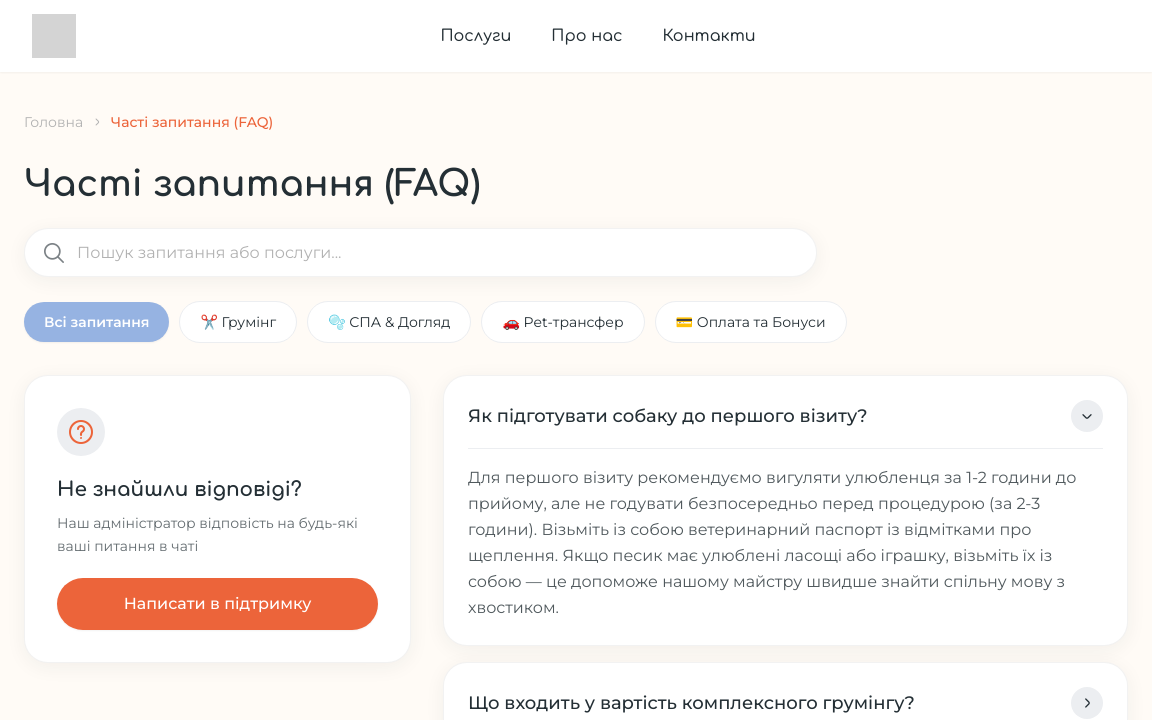
Test case: FaqPage › filters FAQ items by search input
The width and height of the screenshot is (1152, 720).
Type "озонової ванни" into the field with placeholder "Пошук запитання або послуги..." at (420, 252), box x1=24 y1=228 x2=817 y2=277
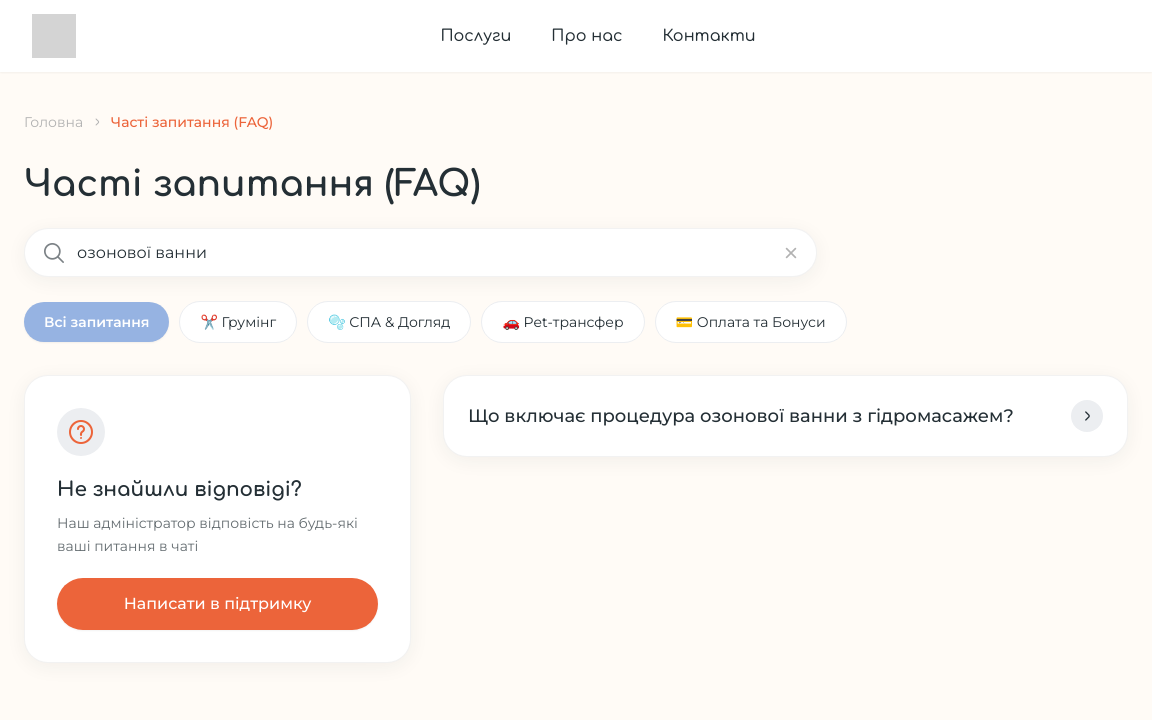
Expected: the text "Що включає процедура озонової ванни з гідромасажем?" is shown, x1=468 y1=404 x2=1014 y2=428
Expected: the button "Як підготувати собаку до першого візиту?" is gone
Click the button named "Очистити пошук" at (791, 252), box x1=781 y1=228 x2=801 y2=277
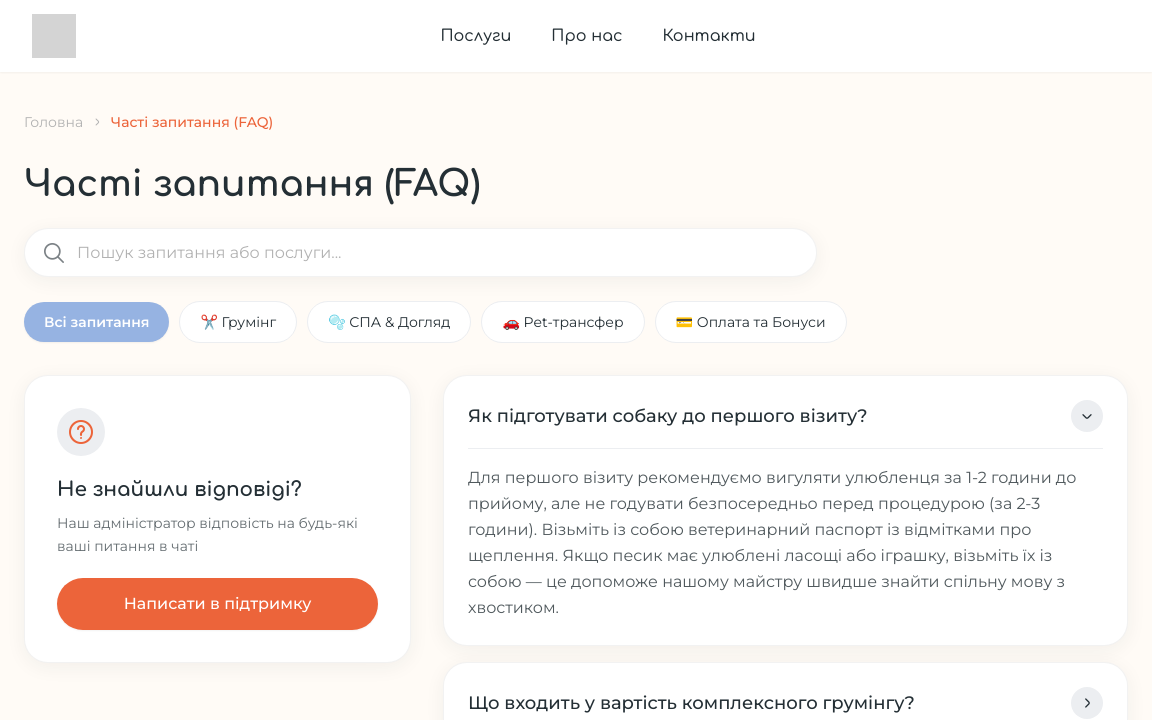
Expected: the text "Як підготувати собаку до першого візиту?" is shown, x1=468 y1=404 x2=868 y2=428
